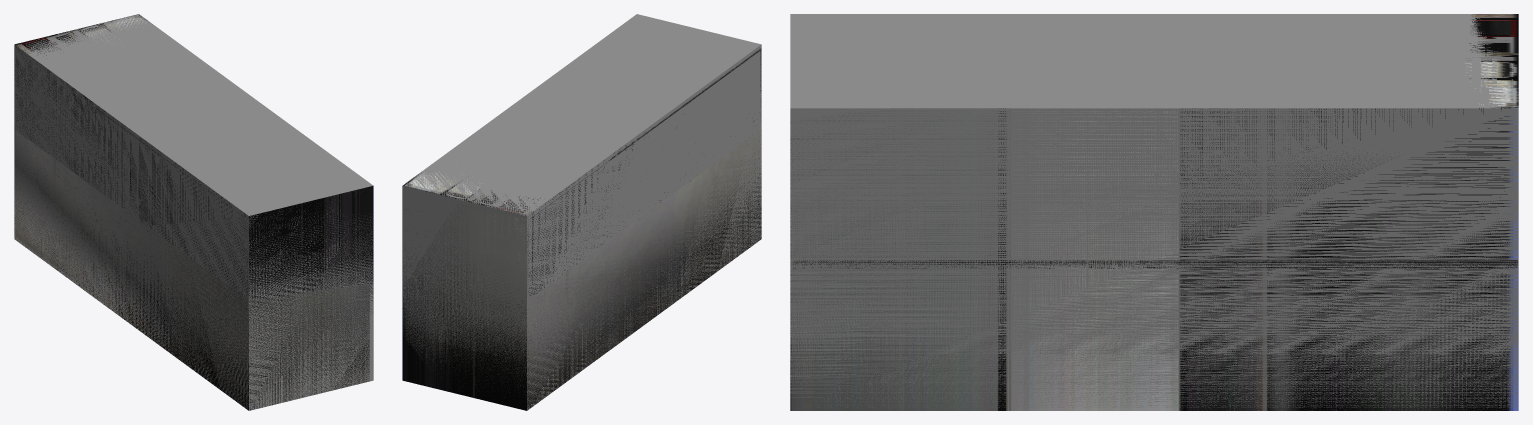
Rendered from deli_fridge_02.FBX.
The picture shows the model from 3 angles, left to right: view 1: azimuth 30°, elevation 25°; view 2: azimuth 150°, elevation 25°; view 3: azimuth 270°, elevation 25°; orthographic projection. The views are drawn at different scales.
Visible parts, largest first — view 1: bounds, deli_fridge_two100, colbox-1; view 2: bounds, deli_fridge_two100, colbox-1; view 3: bounds, colbox-1, deli_fridge_two100.
Part boxes in pixels (left/top/right/bottom): bounds: left=14, top=14, right=373, bottom=410; deli_fridge_two100: left=14, top=48, right=369, bottom=410; colbox-1: left=15, top=14, right=373, bottom=410; bounds: left=402, top=14, right=761, bottom=410; deli_fridge_two100: left=406, top=48, right=761, bottom=410; colbox-1: left=402, top=120, right=761, bottom=410; bounds: left=790, top=14, right=1518, bottom=410; colbox-1: left=790, top=14, right=1518, bottom=410; deli_fridge_two100: left=793, top=260, right=1517, bottom=268.
Size of the model in its own units: 88.99 by 133 by 290.
